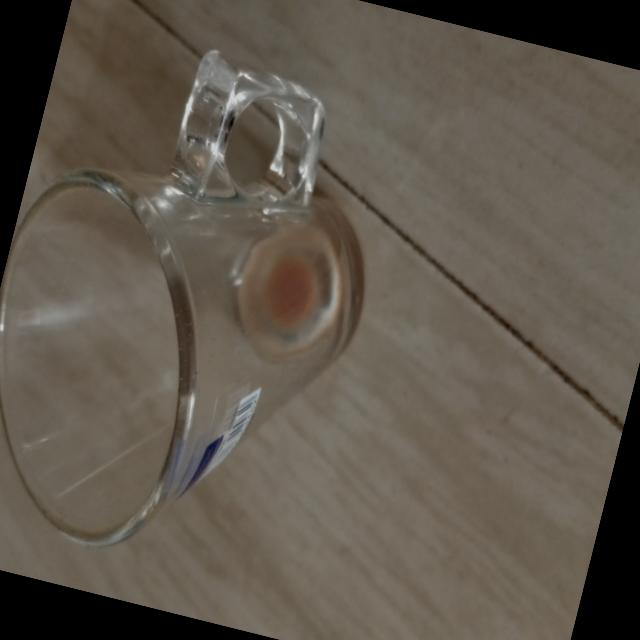glass-VX4N: (0, 9, 416, 594)
